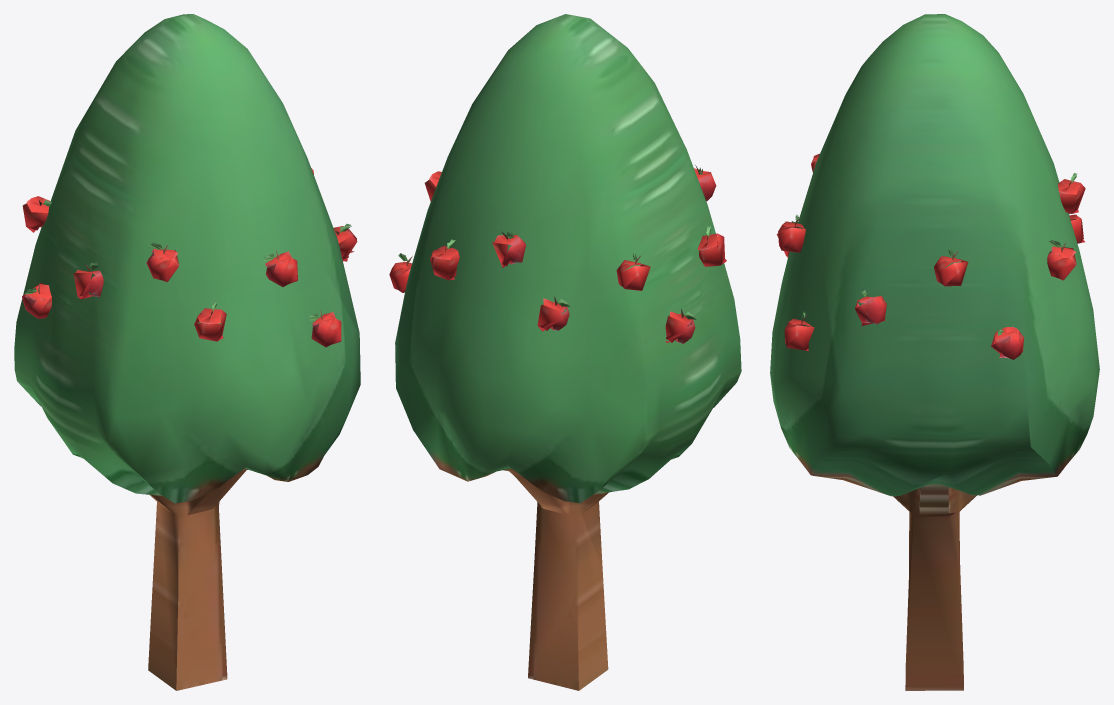
The picture shows the model from 3 angles, left to right: view 1: azimuth 30°, elevation 25°; view 2: azimuth 150°, elevation 25°; view 3: azimuth 270°, elevation 25°; orthographic projection.
Parts seen in each view (by area): view 1: Decor_apple_tree_2; view 2: Decor_apple_tree_2; view 3: Decor_apple_tree_2.
Boxes of the visible parts, <box> form: Decor_apple_tree_2: <box>14,14,360,690</box>; Decor_apple_tree_2: <box>389,14,741,690</box>; Decor_apple_tree_2: <box>770,14,1099,690</box>.
Bounding box in the file's own units: 2.09 × 4.58 × 2.08.
2 materials, 2 textured.
